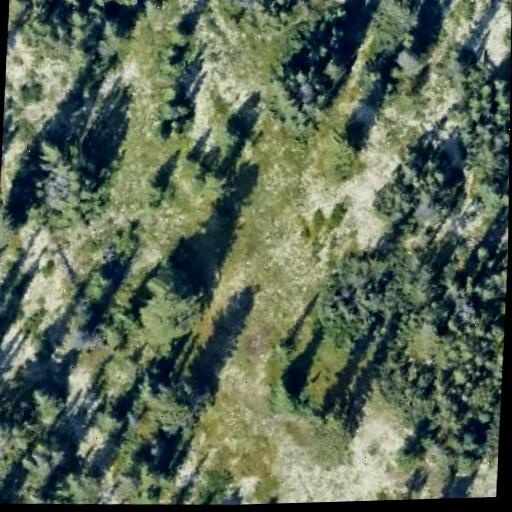tree-top: (28, 132, 109, 218), (137, 256, 205, 327), (143, 368, 213, 430), (257, 55, 320, 113), (303, 405, 358, 462), (372, 0, 431, 50), (46, 459, 106, 505), (54, 304, 110, 353), (318, 277, 371, 326), (20, 378, 70, 429), (436, 39, 483, 86), (402, 148, 450, 194), (437, 281, 481, 330), (322, 122, 367, 167), (268, 367, 309, 411), (388, 38, 429, 78), (373, 179, 416, 215), (96, 11, 133, 50), (476, 173, 509, 212), (361, 244, 395, 278), (214, 116, 247, 151), (452, 423, 485, 457), (138, 169, 170, 204), (0, 194, 24, 240), (132, 453, 165, 486), (448, 448, 482, 480), (165, 19, 198, 51), (154, 91, 187, 123), (322, 50, 353, 83), (89, 264, 118, 297), (391, 440, 422, 468), (98, 407, 128, 435), (415, 318, 444, 344), (471, 238, 496, 261), (66, 4, 87, 25), (309, 0, 361, 8)
